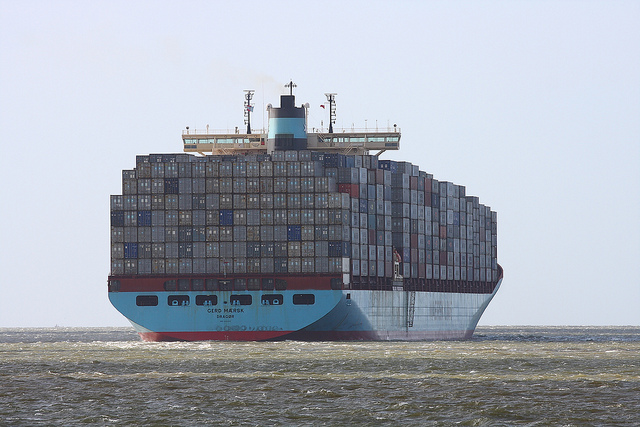container_ship: (107, 79, 502, 339)
